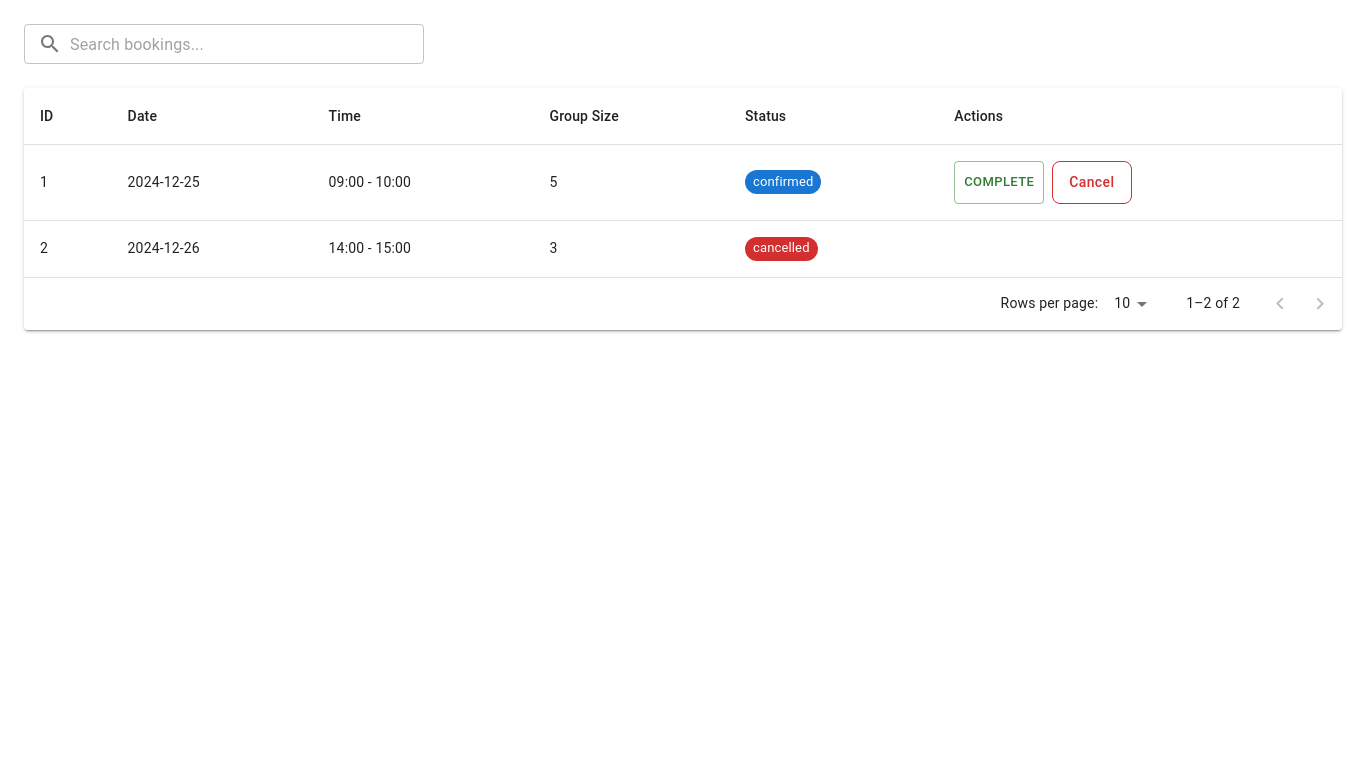
AdminBookingManagement › Confirmation Dialog › should show confirmation dialog when Complete button is clicked
This screenshot has width=1366, height=768.
Click the button "Complete".
click(999, 182)  # box [954,161,1044,204]
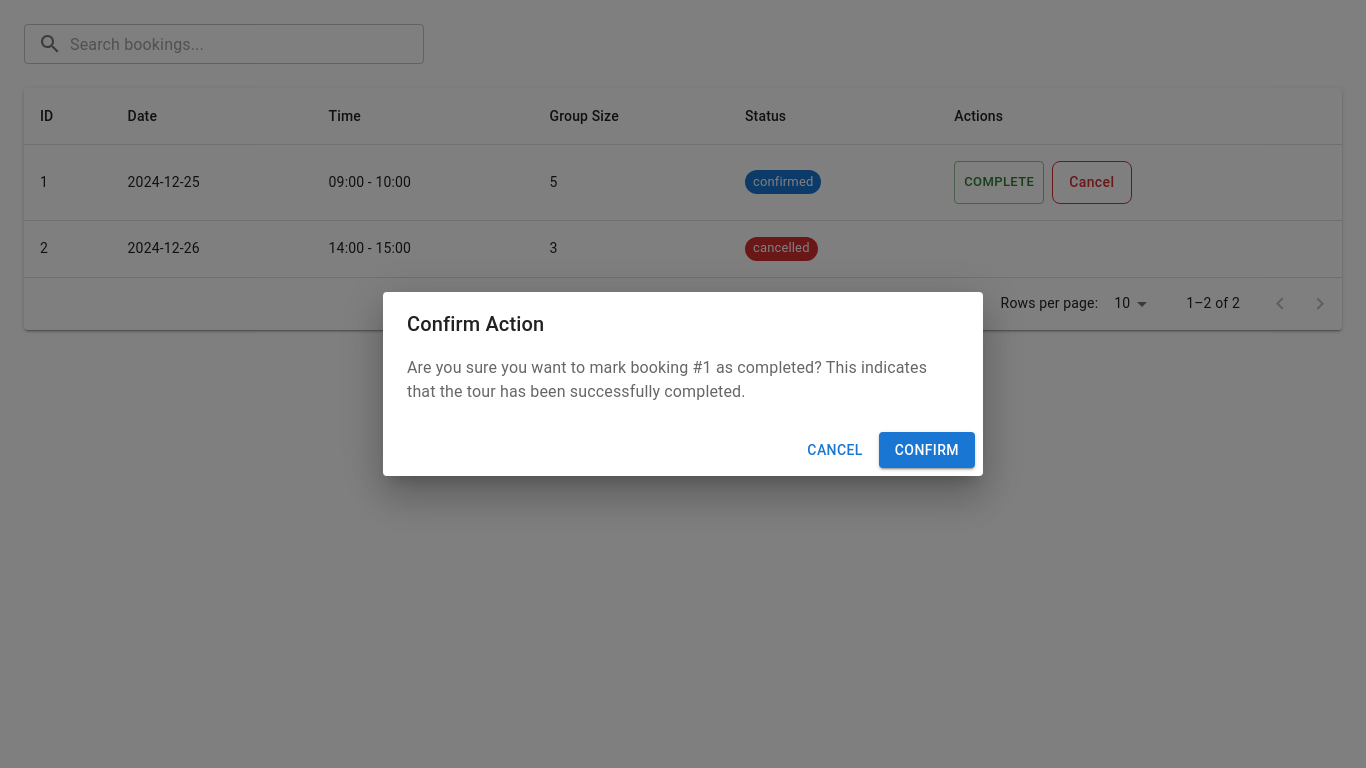
Expected: the heading "Confirm Action" is shown, [407,312,544,336]
Expected: the text "Are you sure you want to mark booking #1 as completed?" is shown, [407,356,959,404]
